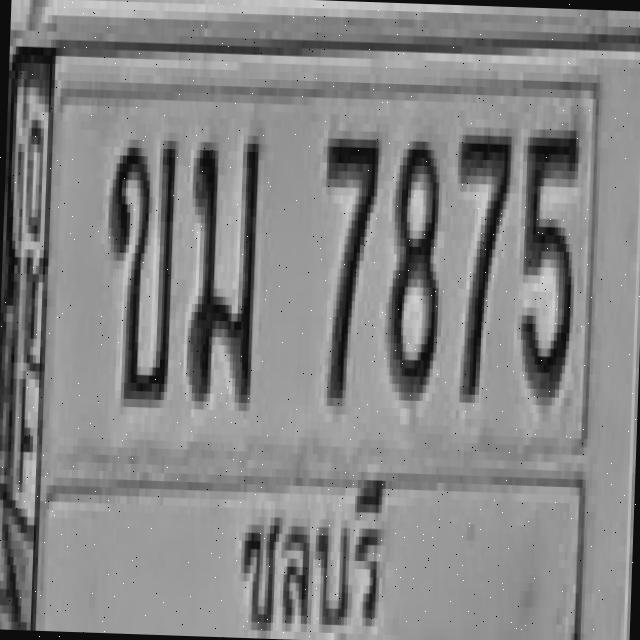11KhorKhai: (104, 130, 178, 400)
42MorMa: (185, 129, 262, 407)
5: (514, 120, 580, 398)
7: (316, 130, 380, 407), (449, 126, 512, 403)
8: (386, 132, 444, 402)
Chonburi: (229, 458, 400, 640)
